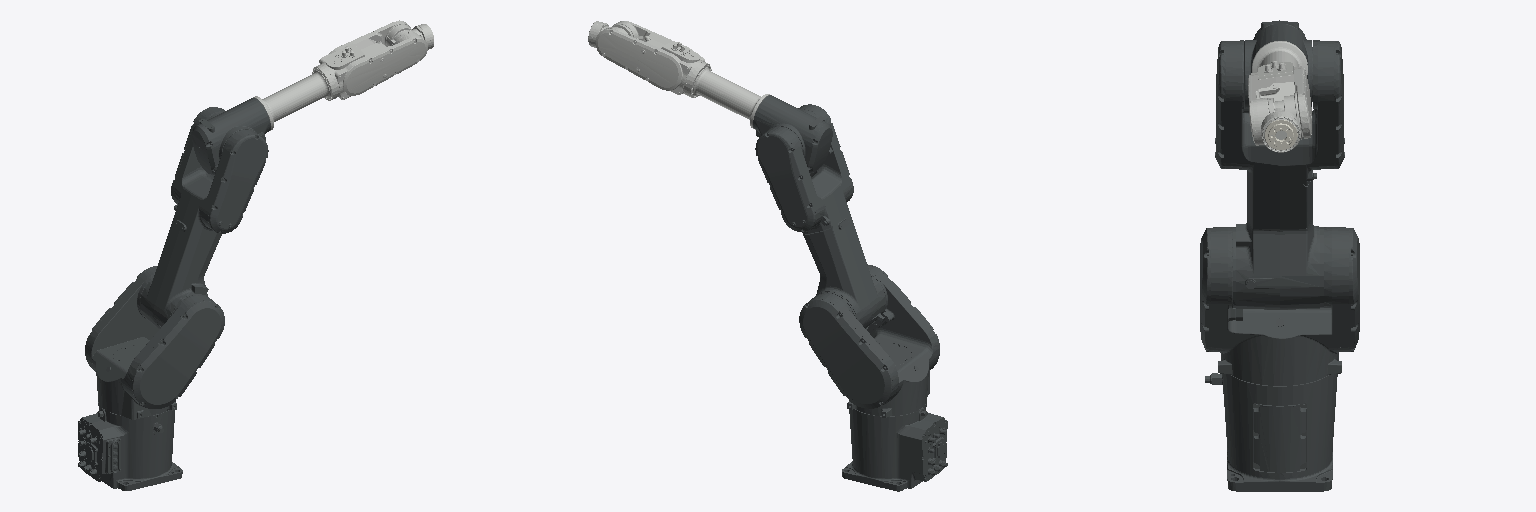
The robot description file, URDF, robot "abb_irb1300":
<?xml version="1.0" ?>
<!-- =================================================================================== -->
<!-- |    This document was autogenerated by xacro from /root/ros1_ws/src/abb_ros1/abb_irb1300_support/urdf/irb1300.xacro | -->
<!-- |    EDITING THIS FILE BY HAND IS NOT RECOMMENDED                                 | -->
<!-- =================================================================================== -->
<robot name="abb_irb1300">
    <!-- Conversion were obtained from http://www.e-paint.co.uk/Lab_values.asp
       unless otherwise stated. -->
    <!-- link list -->
    <link name="base_link">
        <collision>
            <geometry>
                <mesh filename="package://abb_irb1300_support/meshes/collision/base_link.STL" />
            </geometry>
        </collision>
        <visual>
            <geometry>
                <mesh filename="package://abb_irb1300_support/meshes/visual/base_link.STL" />
            </geometry>
            <material name="">
                <color rgba="0.3450980 0.3647059 0.3686275 1" />
            </material>
        </visual>
        <inertial>
            <mass value="0.1" />
            <origin xyz="0 0 0" rpy="0 0 0" />
            <inertia ixx="0.03" iyy="0.03" izz="0.03" ixy="0.0" ixz="0.0" iyz="0.0" />
        </inertial>
    </link>
    <link name="link_1">
        <collision>
            <geometry>
                <mesh filename="package://abb_irb1300_support/meshes/collision/link_1.STL" />
            </geometry>
        </collision>
        <visual>
            <geometry>
                <mesh filename="package://abb_irb1300_support/meshes/visual/link_1.STL" />
            </geometry>
            <material name="">
                <color rgba="0.3450980 0.3647059 0.3686275 1" />
            </material>
        </visual>
        <inertial>
            <mass value="0.1" />
            <origin xyz="0 0 0" rpy="0 0 0" />
            <inertia ixx="0.03" iyy="0.03" izz="0.03" ixy="0.0" ixz="0.0" iyz="0.0" />
        </inertial>
    </link>
    <link name="link_2">
        <collision>
            <geometry>
                <mesh filename="package://abb_irb1300_support/meshes/collision/link_2.STL" />
            </geometry>
        </collision>
        <visual>
            <geometry>
                <mesh filename="package://abb_irb1300_support/meshes/visual/link_2.STL" />
            </geometry>
            <material name="">
                <color rgba="0.3450980 0.3647059 0.3686275 1" />
            </material>
        </visual>
        <inertial>
            <mass value="0.1" />
            <origin xyz="0 0 0" rpy="0 0 0" />
            <inertia ixx="0.03" iyy="0.03" izz="0.03" ixy="0.0" ixz="0.0" iyz="0.0" />
        </inertial>
    </link>
    <link name="link_3">
        <collision>
            <geometry>
                <mesh filename="package://abb_irb1300_support/meshes/collision/link_3.STL" />
            </geometry>
        </collision>
        <visual>
            <geometry>
                <mesh filename="package://abb_irb1300_support/meshes/visual/link_3.STL" />
            </geometry>
            <material name="">
                <color rgba="0.3450980 0.3647059 0.3686275 1" />
            </material>
        </visual>
        <inertial>
            <mass value="0.1" />
            <origin xyz="0 0 0" rpy="0 0 0" />
            <inertia ixx="0.03" iyy="0.03" izz="0.03" ixy="0.0" ixz="0.0" iyz="0.0" />
        </inertial>
    </link>
    <link name="link_4">
        <collision>
            <geometry>
                <mesh filename="package://abb_irb1300_support/meshes/collision/link_4.STL" />
            </geometry>
        </collision>
        <visual>
            <geometry>
                <mesh filename="package://abb_irb1300_support/meshes/visual/link_4.STL" />
            </geometry>
            <material name="">
                <color rgba="0.7725490 0.7803922 0.7686275 1" />
            </material>
        </visual>
        <inertial>
            <mass value="0.1" />
            <origin xyz="0 0 0" rpy="0 0 0" />
            <inertia ixx="0.03" iyy="0.03" izz="0.03" ixy="0.0" ixz="0.0" iyz="0.0" />
        </inertial>
    </link>
    <link name="link_5">
        <collision>
            <geometry>
                <mesh filename="package://abb_irb1300_support/meshes/collision/link_5.STL" />
            </geometry>
        </collision>
        <visual>
            <geometry>
                <mesh filename="package://abb_irb1300_support/meshes/visual/link_5.STL" />
            </geometry>
            <material name="">
                <color rgba="0.7725490 0.7803922 0.7686275 1" />
            </material>
        </visual>
        <inertial>
            <mass value="0.1" />
            <origin xyz="0 0 0" rpy="0 0 0" />
            <inertia ixx="0.03" iyy="0.03" izz="0.03" ixy="0.0" ixz="0.0" iyz="0.0" />
        </inertial>
    </link>
    <link name="link_6">
        <collision>
            <geometry>
                <mesh filename="package://abb_irb1300_support/meshes/collision/link_6.STL" />
            </geometry>
        </collision>
        <visual>
            <geometry>
                <mesh filename="package://abb_irb1300_support/meshes/visual/link_6.STL" />
            </geometry>
            <material name="">
                <color rgba="0.8392157 0.8352941 0.7921569 1" />
            </material>
        </visual>
        <inertial>
            <mass value="0.1" />
            <origin xyz="0 0 0" rpy="0 0 0" />
            <inertia ixx="0.03" iyy="0.03" izz="0.03" ixy="0.0" ixz="0.0" iyz="0.0" />
        </inertial>
    </link>
    <!-- end of link list -->
    <!-- joint list -->
    <joint name="joint_1" type="revolute">
        <origin rpy="0 0 0" xyz="-0.43218 -0.48436 0.20975" />
        <axis xyz="0 0 1" />
        <parent link="base_link" />
        <child link="link_1" />
        <limit effort="0" lower="-3.141592653589793" upper="3.141592653589793" velocity="3.9269908169872414" />
    </joint>
    <joint name="joint_2" type="revolute">
        <origin rpy="0 0.33992 0" xyz="0.15 0 0.292" />
        <axis xyz="0 1 0" />
        <parent link="link_1" />
        <child link="link_2" />
        <limit effort="0" lower="-1.6580627893946132" upper="2.705260340591211" velocity="3.141592653589793" />
    </joint>
    <joint name="joint_3" type="revolute">
        <origin rpy="0 -0.57698 0" xyz="0 0 0.575" />
        <axis xyz="0 1 0" />
        <parent link="link_2" />
        <child link="link_3" />
        <limit effort="0" lower="-3.6651914291880923" upper="1.2042771838760873" velocity="2.443460952792061" />
    </joint>
    <joint name="joint_4" type="revolute">
        <origin rpy="0.1453 0 0" xyz="0.090805 0 0.04" />
        <axis xyz="1 0 0" />
        <parent link="link_3" />
        <child link="link_4" />
        <limit effort="0" lower="-4.014257279586958" upper="4.014257279586958" velocity="8.726646259971648" />
    </joint>
    <joint name="joint_5" type="revolute">
        <origin rpy="0 0.20514 0" xyz="0.5842 0 0" />
        <axis xyz="0 1 0" />
        <parent link="link_4" />
        <child link="link_5" />
        <limit effort="0" lower="-2.2689280275926285" upper="2.2689280275926285" velocity="7.243116395776467" />
    </joint>
    <joint name="joint_6" type="revolute">
        <origin rpy="1.429 0 0" xyz="0.077932 0 0" />
        <axis xyz="1 0 0" />
        <parent link="link_5" />
        <child link="link_6" />
        <limit effort="0" lower="-6.981317007977318" upper="6.981317007977318" velocity="12.566370614359172" />
    </joint>
    <!-- end of joint list -->
    <!-- ROS-Industrial 'base' frame: base_link to ABB World Coordinates transform -->
    <link name="base" />
    <joint name="base_link-base" type="fixed">
        <origin rpy="0 0 0" xyz="0 0 0" />
        <parent link="base_link" />
        <child link="base" />
    </joint>
    <!-- ROS-Industrial 'flange' frame: attachment point for EEF models -->
    <link name="flange" />
    <joint name="joint_6-flange" type="fixed">
        <origin rpy="0 0 0" xyz="0 0 0" />
        <parent link="link_6" />
        <child link="flange" />
    </joint>
    <!-- ROS-Industrial 'tool0' frame: all-zeros tool frame -->
    <link name="tool0" />
    <joint name="flange-tool0" type="fixed">
        <origin rpy="0 1.5707963267948966 0" xyz="0 0 0" />
        <parent link="flange" />
        <child link="tool0" />
    </joint>
    <transmission name="trans_joint_1">
        <type>transmission_interface/SimpleTransmission</type>
        <joint name="joint_1">
            <hardwareInterface>hardware_interface/EffortJointInterface</hardwareInterface>
        </joint>
        <actuator name="joint_1_motor">
            <hardwareInterface>hardware_interface/EffortJointInterface</hardwareInterface>
            <mechanicalReduction>1</mechanicalReduction>
        </actuator>
    </transmission>
    <transmission name="trans_joint_2">
        <type>transmission_interface/SimpleTransmission</type>
        <joint name="joint_2">
            <hardwareInterface>hardware_interface/EffortJointInterface</hardwareInterface>
        </joint>
        <actuator name="joint_2_motor">
            <hardwareInterface>hardware_interface/EffortJointInterface</hardwareInterface>
            <mechanicalReduction>1</mechanicalReduction>
        </actuator>
    </transmission>
    <transmission name="trans_joint_3">
        <type>transmission_interface/SimpleTransmission</type>
        <joint name="joint_3">
            <hardwareInterface>hardware_interface/EffortJointInterface</hardwareInterface>
        </joint>
        <actuator name="joint_3_motor">
            <hardwareInterface>hardware_interface/EffortJointInterface</hardwareInterface>
            <mechanicalReduction>1</mechanicalReduction>
        </actuator>
    </transmission>
    <transmission name="trans_joint_4">
        <type>transmission_interface/SimpleTransmission</type>
        <joint name="joint_4">
            <hardwareInterface>hardware_interface/EffortJointInterface</hardwareInterface>
        </joint>
        <actuator name="joint_4_motor">
            <hardwareInterface>hardware_interface/EffortJointInterface</hardwareInterface>
            <mechanicalReduction>1</mechanicalReduction>
        </actuator>
    </transmission>
    <transmission name="trans_joint_5">
        <type>transmission_interface/SimpleTransmission</type>
        <joint name="joint_5">
            <hardwareInterface>hardware_interface/EffortJointInterface</hardwareInterface>
        </joint>
        <actuator name="joint_5_motor">
            <hardwareInterface>hardware_interface/EffortJointInterface</hardwareInterface>
            <mechanicalReduction>1</mechanicalReduction>
        </actuator>
    </transmission>
    <transmission name="trans_joint_6">
        <type>transmission_interface/SimpleTransmission</type>
        <joint name="joint_6">
            <hardwareInterface>hardware_interface/EffortJointInterface</hardwareInterface>
        </joint>
        <actuator name="joint_6_motor">
            <hardwareInterface>hardware_interface/EffortJointInterface</hardwareInterface>
            <mechanicalReduction>1</mechanicalReduction>
        </actuator>
    </transmission>
    <gazebo>
        <plugin name="gazebo_ros_control" filename="libgazebo_ros_control.so">
            <robotNamespace>/</robotNamespace>
        </plugin>
    </gazebo>
</robot>

--- What the picture shows (computed from the rendered views, not written in the file) ---
Views: 3 orthographic renders of the robot side by side, from view 1: azimuth 30°, elevation 25°; view 2: azimuth 150°, elevation 25°; view 3: azimuth 270°, elevation 25°.
Model abb_irb1300 with 10 links and 9 joints (6 revolute, 3 fixed), rooted at base_link, posed every joint at zero.
Visible links, largest first — view 1: link_1, link_2, base_link, link_4, link_3, link_5; view 2: link_1, link_2, base_link, link_4, link_3; view 3: link_2, link_1, base_link, link_4, link_3, link_5, link_6.
Link boxes in pixels (x1,y1,x2,y2): link_1: (85, 266, 224, 419); link_2: (140, 107, 268, 329); base_link: (78, 402, 182, 490); link_4: (253, 20, 427, 130); link_3: (192, 98, 270, 175); link_5: (385, 23, 433, 49); link_1: (799, 264, 939, 417); link_2: (755, 104, 885, 329); base_link: (842, 402, 947, 491); link_4: (595, 21, 769, 129); link_3: (753, 95, 832, 173); link_2: (1215, 40, 1344, 309); link_1: (1200, 227, 1359, 385); base_link: (1205, 373, 1337, 491); link_4: (1248, 41, 1311, 145); link_3: (1244, 20, 1312, 108); link_5: (1261, 93, 1302, 152); link_6: (1265, 120, 1297, 149).
Size in the robot's own frame: 1.28 by 0.34 by 1.34 metres.
7 mesh visuals loaded from 7 distinct referenced files (7 binary STL).